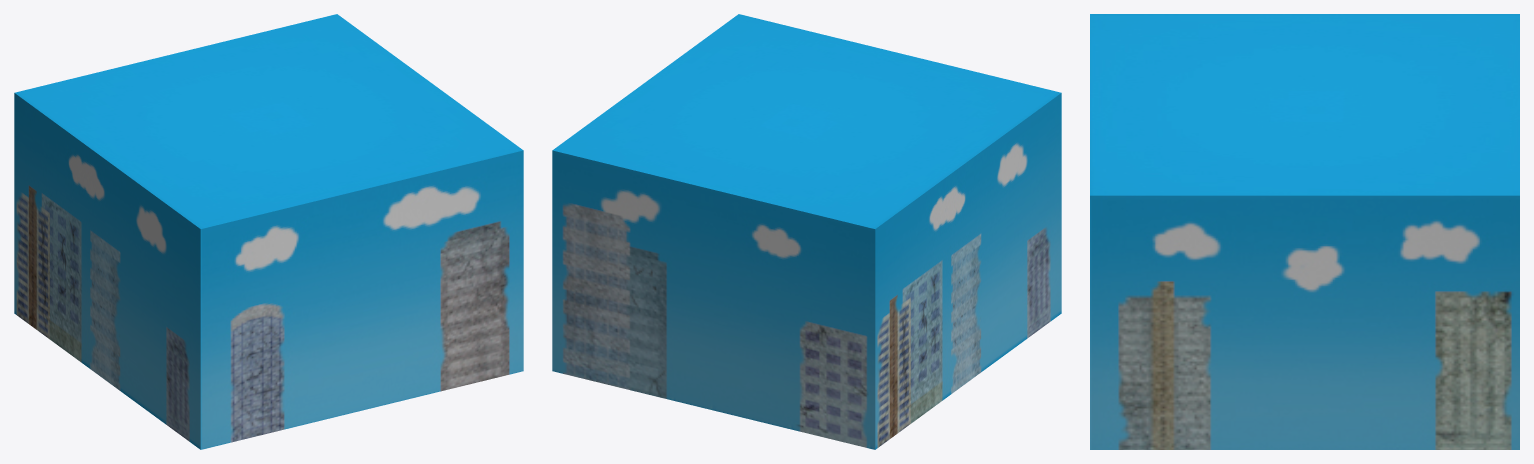
Rendered from stuga_sky.FBX.
3 views of the same model, side by side, from view 1: azimuth 30°, elevation 25°; view 2: azimuth 150°, elevation 25°; view 3: azimuth 270°, elevation 25° (orthographic). The views are drawn at different scales.
Parts seen in each view (by area): view 1: オブジェクト156; view 2: オブジェクト156; view 3: オブジェクト156.
Boxes of the visible parts, x1=… form: オブジェクト156: x1=14, y1=14, x2=523, y2=449; オブジェクト156: x1=552, y1=14, x2=1061, y2=449; オブジェクト156: x1=1090, y1=14, x2=1519, y2=449.
Bounding box in the file's own units: 410 × 268 × 410.
